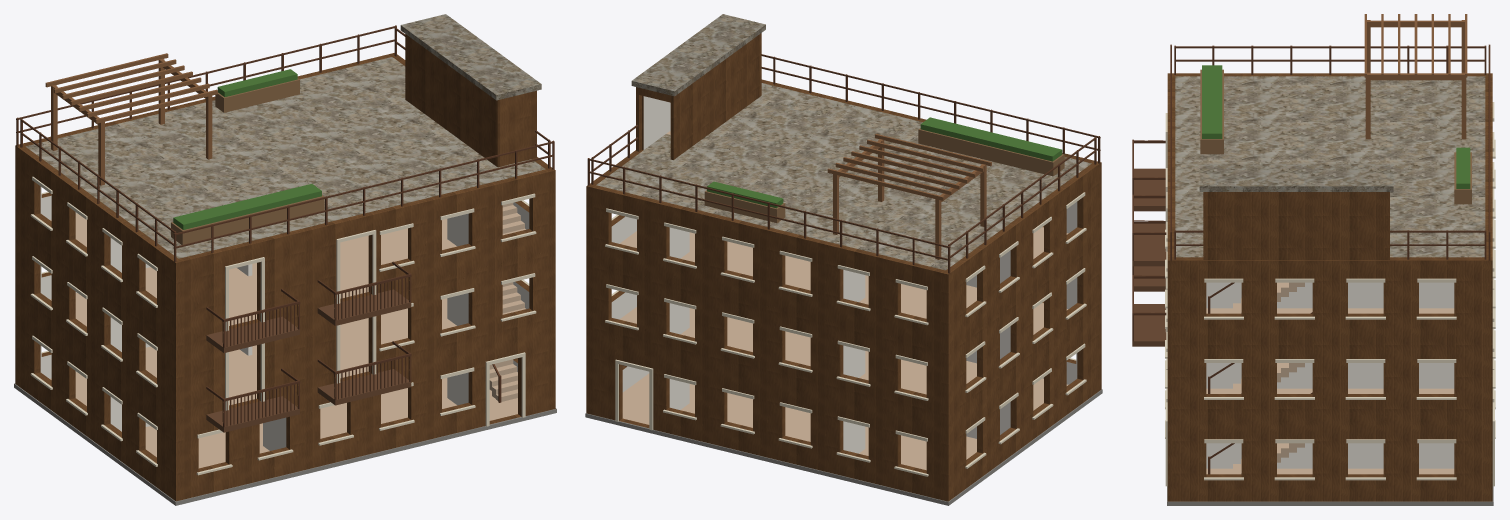
Rendered from rw-river-flats.towns-v2.lod0.glb.
The picture shows the model from 3 angles, left to right: view 1: azimuth 30°, elevation 25°; view 2: azimuth 150°, elevation 25°; view 3: azimuth 270°, elevation 25°; orthographic projection. The views are drawn at different scales.
Visible parts, largest first — view 1: rw-river-flats; view 2: rw-river-flats; view 3: rw-river-flats.
Boxes of the visible parts, x1=… form: rw-river-flats: x1=14, y1=14, x2=556, y2=505; rw-river-flats: x1=585, y1=14, x2=1102, y2=505; rw-river-flats: x1=1132, y1=14, x2=1495, y2=505.
Size of the model in its own units: 15.18 by 11.96 by 12.32.
Materials: 5 (2 with a texture image).
